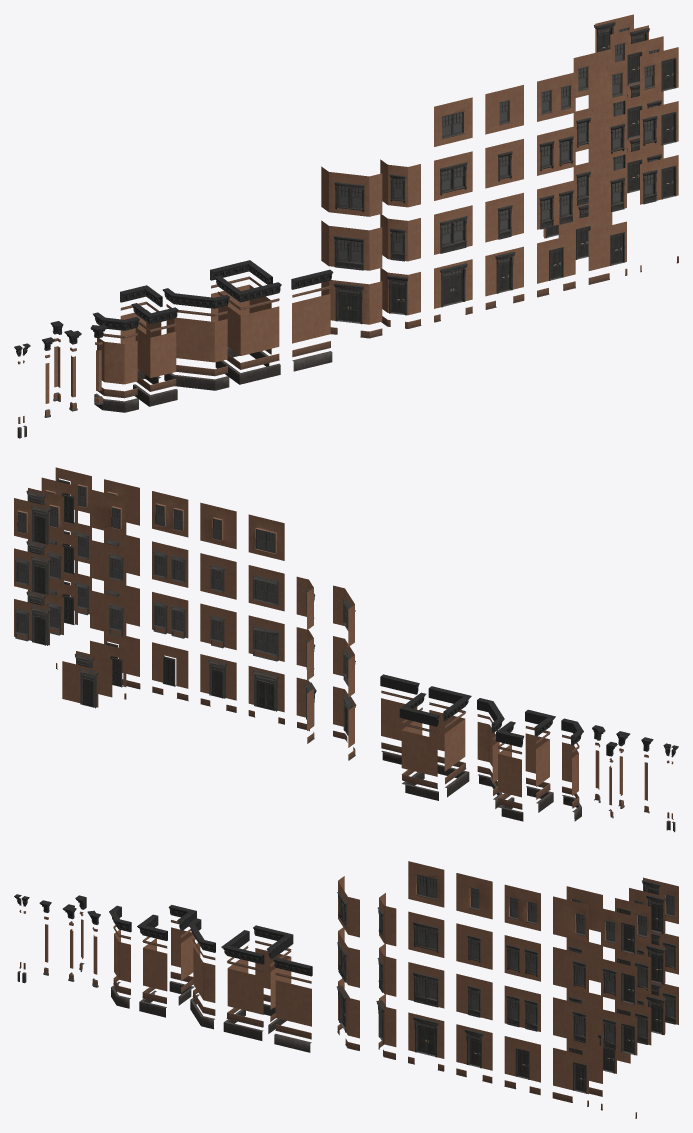
Rendered from facade-apartments.glb.
3 views of the same model, one above another, from view 1: azimuth 30°, elevation 25°; view 2: azimuth 150°, elevation 25°; view 3: azimuth 330°, elevation 25° (orthographic). The views are drawn at different scales.
Visible parts, largest first — view 1: wall_standard_corner_large_01, wall_standard_angled_large_01, wall_window_angled_large_02, wall_window_angled_large_01, wall_standard_corner_small_01, wall_standard_standard_01, wall_standard_angled_small_01, wall_window_offset_small_05, wall_window_centered_small_03, wall_window_centered_small_02, wall_door_angled_large_01, wall_window_angled_small_02 (+38 smaller); view 2: wall_standard_corner_large_02, wall_standard_corner_large_01, wall_window_offset_small_06, wall_window_centered_small_03, wall_window_centered_small_02, wall_window_offset_small_04, wall_window_centered_small_01, wall_window_offset_small_02, wall_window_centered_double_03, wall_door_centered_small_02, wall_window_centered_large_03, door_window_small_04 (+38 smaller); view 3: wall_standard_corner_large_01, wall_standard_standard_01, wall_window_centered_small_03, wall_window_offset_small_05, wall_window_centered_small_02, wall_window_offset_small_03, wall_window_centered_small_01, wall_window_centered_double_03, wall_door_centered_small_02, wall_standard_corner_small_01, wall_window_offset_small_01, wall_window_centered_large_03 (+58 smaller).
Part boxes in pixels (x1,y1,x2,y2): wall_standard_corner_large_01: (218,306,279,355); wall_standard_angled_large_01: (166,317,227,362); wall_window_angled_large_02: (321,166,382,216); wall_window_angled_large_01: (321,220,382,270); wall_standard_corner_small_01: (135,328,176,377); wall_standard_standard_01: (292,294,330,343); wall_standard_angled_small_01: (97,338,137,384); wall_window_offset_small_05: (588,59,626,109); wall_window_centered_small_03: (485,85,523,134); wall_window_centered_small_02: (485,139,523,188); wall_door_angled_large_01: (321,280,382,324); wall_window_angled_small_02: (380,159,420,207); wall_standard_corner_large_02: (401,721,437,776); wall_standard_corner_large_01: (429,710,465,771); wall_window_offset_small_06: (90,489,126,535); wall_window_centered_small_03: (200,502,236,549); wall_window_centered_small_02: (200,553,236,599); wall_window_offset_small_04: (90,540,126,586); wall_window_centered_small_01: (200,603,236,649); wall_window_offset_small_02: (90,590,126,636); wall_window_centered_double_03: (152,491,188,537); wall_door_centered_small_02: (152,642,188,688); wall_window_centered_large_03: (248,514,284,560); door_window_small_04: (14,605,51,645); wall_standard_corner_large_01: (227,959,263,1014); wall_standard_standard_01: (275,980,311,1026); wall_window_centered_small_03: (456,873,492,919); wall_window_offset_small_05: (553,896,588,942); wall_window_centered_small_02: (456,923,492,969); wall_window_offset_small_03: (553,947,588,993); wall_window_centered_small_01: (456,973,492,1020); wall_window_centered_double_03: (504,884,540,930); wall_door_centered_small_02: (504,1036,540,1082); wall_standard_corner_small_01: (143,938,167,991); wall_window_offset_small_01: (553,997,588,1043); wall_window_centered_large_03: (408,861,444,907).
Size of the model in its own units: 51.53 by 17 by 6.67.
Materials: 5 (5 with a texture image).
